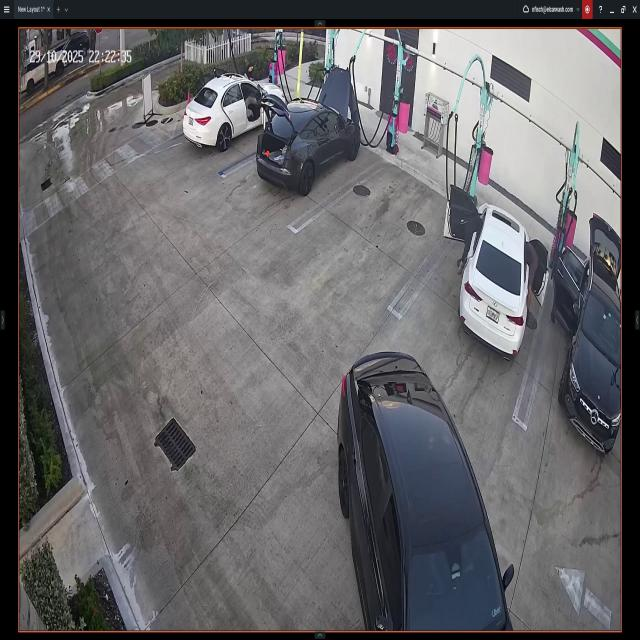Car: (329, 334, 515, 632), (445, 184, 548, 356), (556, 204, 622, 451), (256, 66, 360, 194), (183, 74, 287, 152)
